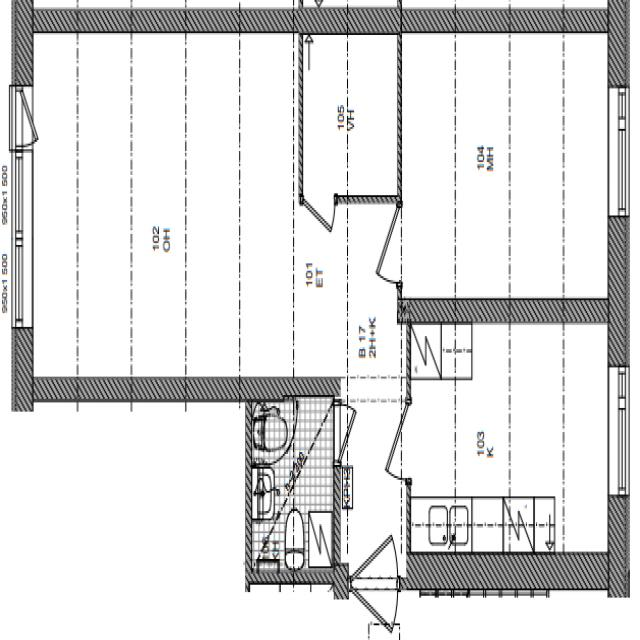door: (351, 492, 398, 589), (364, 401, 411, 478), (356, 208, 402, 283), (12, 85, 67, 147), (334, 404, 372, 462), (304, 195, 334, 259)
